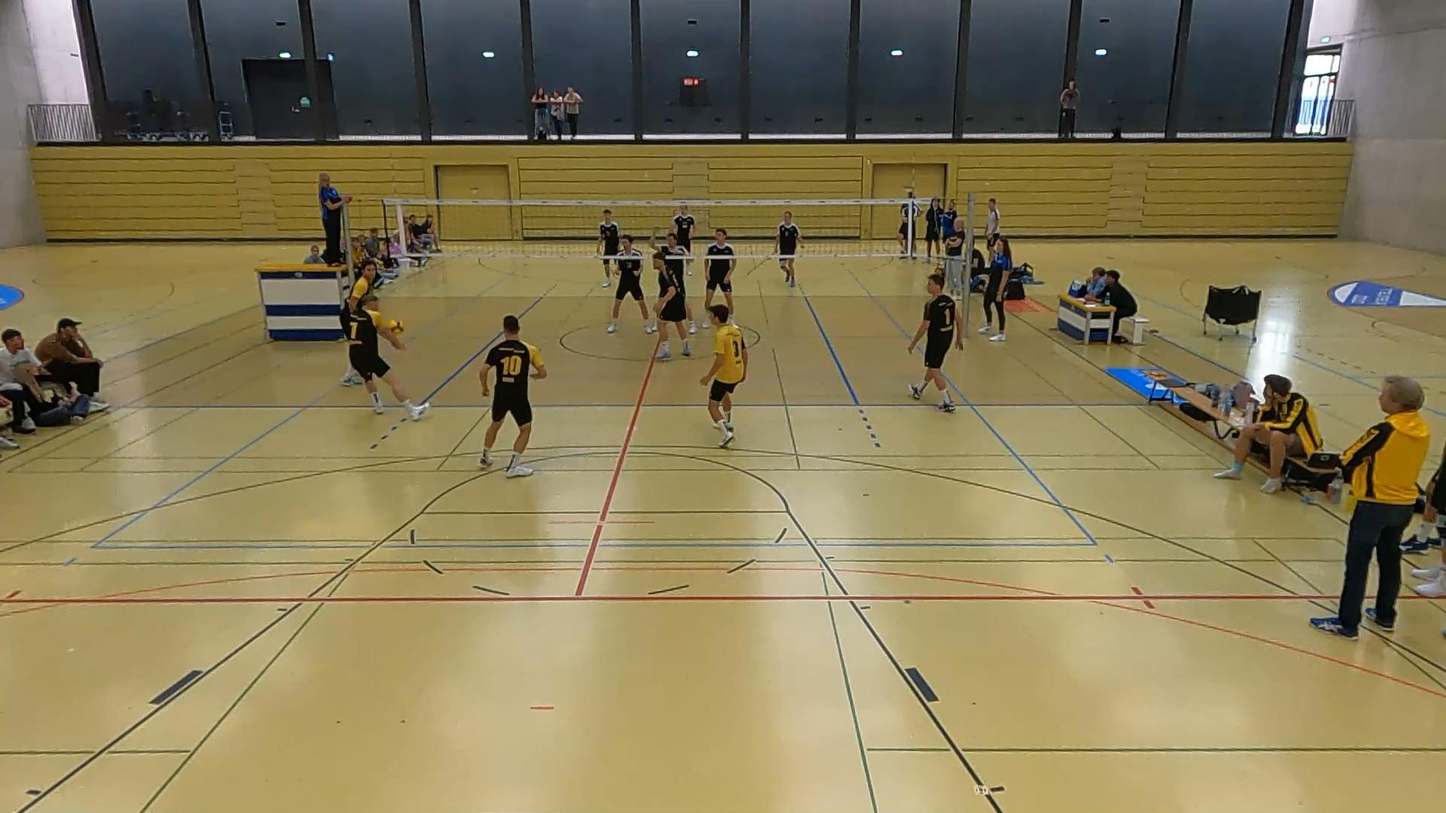Player: (479, 315, 546, 477), (908, 274, 961, 412), (700, 305, 747, 446), (607, 235, 656, 333), (651, 231, 695, 333), (653, 246, 691, 360), (339, 260, 378, 333), (704, 227, 735, 312), (774, 211, 800, 287), (597, 209, 621, 288), (673, 204, 695, 251)
Receive: (335, 292, 438, 430)
ball: (384, 314, 405, 339)
